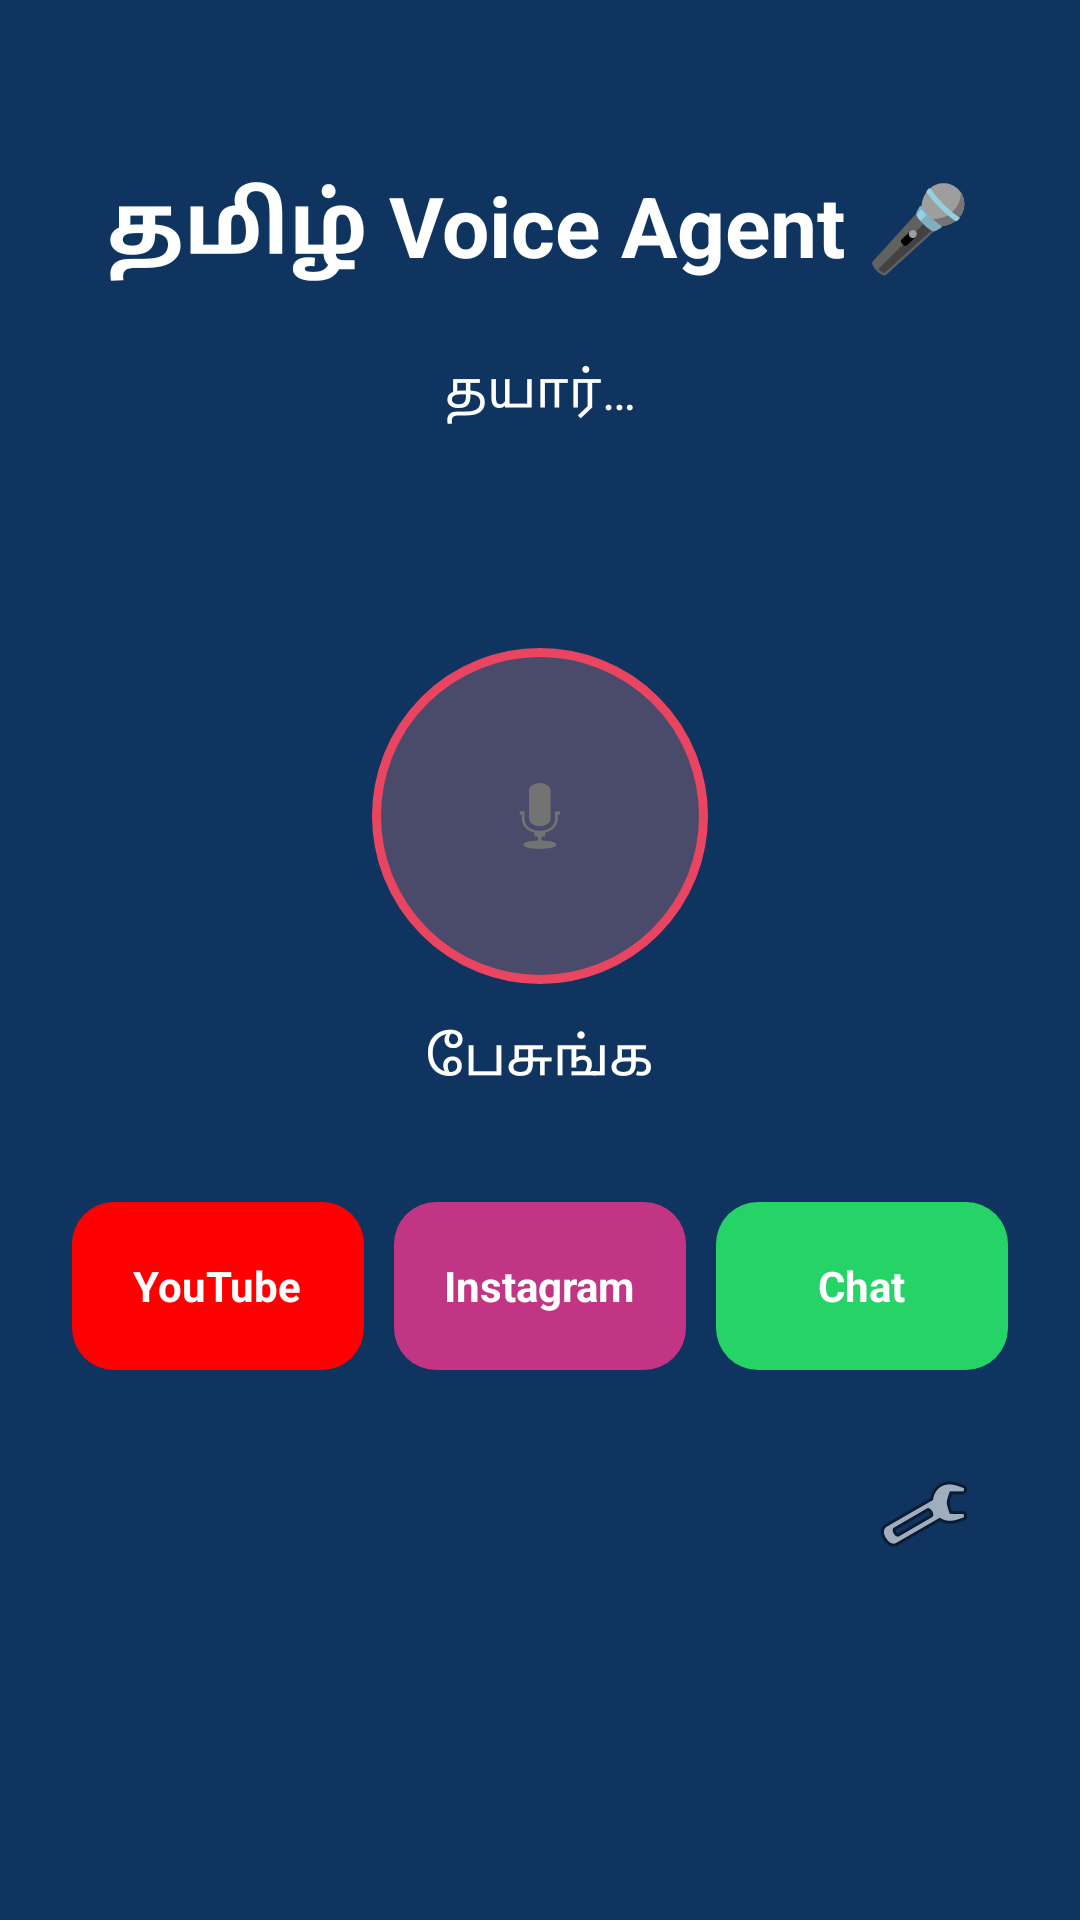

Where icons sit on this 1080px×1920px app screen, as detection(x1, y1, x2, y2):
Mic: detection(372, 648, 708, 984)
Setup: detection(881, 1481, 967, 1547)
